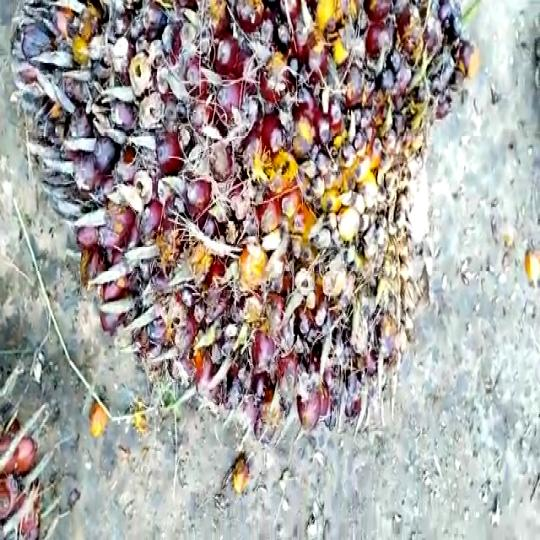masak: (18, 0, 491, 463)
